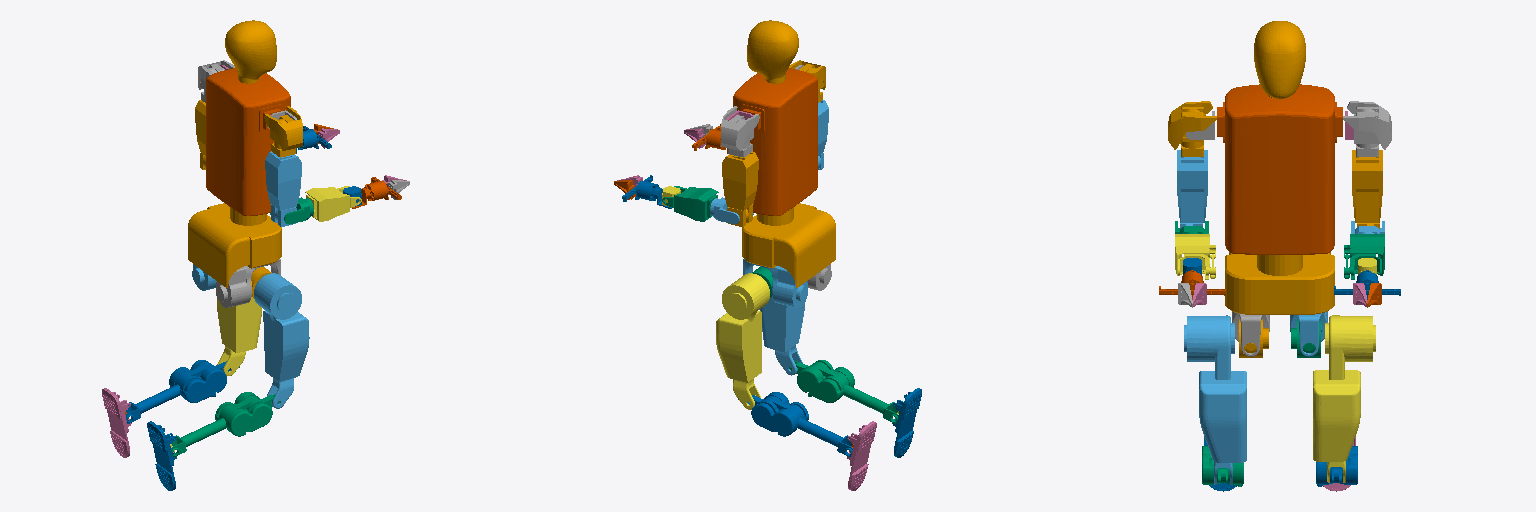
--- What the picture shows (computed from the rendered views, not written in the file) ---
Views: 3 orthographic renders of the robot side by side, from view 1: azimuth 30°, elevation 25°; view 2: azimuth 150°, elevation 25°; view 3: azimuth 270°, elevation 25°.
Robot: HuV3 — 33 links, 32 joints (28 revolute, 4 fixed); root link pelvis_link; default pose: all joints at 0 but 2 set to mid-range because 0 is outside their limits (left_knee_joint = 1.36, right_knee_joint = 1.36).
Links seen in each view (by area): view 1: torso_link, pelvis_link, right_hip_pitch_link, zneck_link, right_knee_link, left_knee_link, left_hip_pitch_link, right_shoulder_yaw_link, right_shoulder_roll_link, right_elbow_roll_link, right_hip_yaw_link, right_toe_link (+3 smaller); view 2: torso_link, pelvis_link, left_hip_pitch_link, zneck_link, right_knee_link, left_knee_link, right_hip_pitch_link, left_shoulder_yaw_link, left_shoulder_roll_link, left_elbow_roll_link, left_hip_yaw_link, left_toe_link (+3 smaller); view 3: torso_link, right_hip_pitch_link, left_hip_pitch_link, pelvis_link, zneck_link, left_shoulder_yaw_link, right_shoulder_yaw_link, left_shoulder_roll_link, right_shoulder_roll_link, left_elbow_roll_link, right_elbow_roll_link, left_hip_yaw_link (+3 smaller).
Link boxes in pixels (<box>): torso_link: <box>206,68,290,215</box>; pelvis_link: <box>188,203,281,287</box>; right_hip_pitch_link: <box>254,273,309,408</box>; zneck_link: <box>225,20,276,83</box>; right_knee_link: <box>171,392,279,456</box>; left_knee_link: <box>126,360,239,423</box>; left_hip_pitch_link: <box>217,297,261,375</box>; right_shoulder_yaw_link: <box>265,151,301,226</box>; right_shoulder_roll_link: <box>264,106,302,157</box>; right_elbow_roll_link: <box>305,186,361,221</box>; right_hip_yaw_link: <box>216,259,280,307</box>; right_toe_link: <box>147,421,176,490</box>; torso_link: <box>733,68,817,215</box>; pelvis_link: <box>742,203,835,287</box>; left_hip_pitch_link: <box>716,273,769,409</box>; zneck_link: <box>747,20,798,83</box>; right_knee_link: <box>789,360,897,423</box>; left_knee_link: <box>738,392,852,456</box>; right_hip_pitch_link: <box>760,297,805,375</box>; left_shoulder_yaw_link: <box>722,151,758,226</box>; left_shoulder_roll_link: <box>721,106,759,157</box>; left_elbow_roll_link: <box>662,186,718,221</box>; left_hip_yaw_link: <box>743,259,807,307</box>; left_toe_link: <box>847,421,876,490</box>; torso_link: <box>1217,84,1342,254</box>; right_hip_pitch_link: <box>1184,315,1246,484</box>; left_hip_pitch_link: <box>1313,315,1375,482</box>; pelvis_link: <box>1225,252,1334,314</box>; zneck_link: <box>1254,21,1305,98</box>; left_shoulder_yaw_link: <box>1352,150,1382,228</box>; right_shoulder_yaw_link: <box>1177,150,1207,228</box>; left_shoulder_roll_link: <box>1343,101,1391,156</box>; right_shoulder_roll_link: <box>1168,101,1216,156</box>; left_elbow_roll_link: <box>1344,234,1384,279</box>; right_elbow_roll_link: <box>1175,234,1215,279</box>; left_hip_yaw_link: <box>1290,311,1327,356</box>.
Size in the robot's own frame: 0.9059 by 0.624 by 1.5 metres.
33 mesh visuals loaded from 33 distinct referenced files (33 binary STL).

URDF robot description (HuV3):
<?xml version='1.0' encoding='utf-8'?>
<robot name="HuV3">

  <mujoco>
    <compiler meshdir="./meshes_v3" balanceinertia="true" discardvisual="false" />
  </mujoco>

  <link name="pelvis_link">
    <inertial>
      <origin xyz="-0.00868894 -0.00002114 0.01378970"  />
      <mass value=" 7.29443409 " />
      <inertia ixx="0.05533594" ixy="0.00002823" ixz=" 0.00170466" iyy="0.03121722" iyz="0.00001421" izz="0.05478048" />
    </inertial>
    <visual>
      <geometry>
        <mesh filename="./meshes_v3/pelvis_Link.STL" />
      </geometry>
    </visual>
  </link>

  <link name="left_hip_yaw_link">
    <inertial>
      <origin xyz="-0.09435015 -0.00003825 -0.09656017"  />
      <mass value="3.47979196" />
      <inertia ixx="0.00666313" ixy="-0.00000499" ixz="0.00265483" iyy="0.01032090" iyz="-0.00000693" izz="0.00783446" />
    </inertial>
    <visual>
      <geometry>
        <mesh filename="./meshes_v3/left_hip_yaw_Link.STL" />
      </geometry>
    </visual>
  </link>

  <joint name="left_hip_yaw_joint" type="revolute">
    <origin xyz="0.0025 0.075 -0.042"  />
    <parent link="pelvis_link" />
    <child link="left_hip_yaw_link" />
    <axis xyz="0 0 1" />
    <limit lower="-0.1745" upper="0.1745" effort="112" velocity="10.8888" />
  </joint>

  <link name="left_hip_roll_link">
    <inertial>
      <origin xyz="-0.00419258 -0.00207243  -0.00000355"  />
      <mass value="1.67347514" />
      <inertia ixx=" 0.00148884" ixy="-0.00001284" ixz="0.00001132" iyy="0.00266559" iyz="-0.00000380" izz="0.00216011" />
    </inertial>
    <visual>
      <geometry>
        <mesh filename="./meshes_v3/left_hip_roll_Link.STL" />
      </geometry>
    </visual>
  </link>

  <joint name="left_hip_roll_joint" type="revolute">
    <origin xyz="0 0 -0.108"  />
    <parent link="left_hip_yaw_link" />
    <child link="left_hip_roll_link" />
    <axis xyz="1 0 0" />
    <limit lower="-0.3491" upper="0.3491" effort="112" velocity="10.8888" />
  </joint>

  <link name="left_hip_pitch_link">
    <inertial>
      <origin xyz="0.01053001 0.02719550 -0.06866401"  />
      <mass value=" 4.69963741 " />
      <inertia ixx="0.07076416" ixy=" -0.00154720" ixz="-0.00612154" iyy="0.06807119" iyz="0.01083637" izz="0.01243698" />
    </inertial>
    <visual>
      <geometry>
        <mesh filename="./meshes_v3/left_hip_pitch_Link.STL" />
      </geometry>
    </visual>
    <collision>
      <origin xyz="0.03 0 -0.15"/>
      <geometry>
        <cylinder length="0.3" radius="0.06" />
      </geometry>
    </collision>
  </link>

  <joint name="left_hip_pitch_joint" type="revolute">
    <origin xyz="0 0.071 0"  />
    <parent link="left_hip_roll_link" />
    <child link="left_hip_pitch_link" />
    <axis xyz="0 1 0" />
    <limit lower="-1.5708" upper="0.8727" effort="112" velocity="10.8888" />
  </joint>

  <link name="left_knee_link">
    <inertial>
      <origin xyz="-0.00772372  0.00018336  -0.14216164"  />
      <mass value=" 2.61168425 " />
      <inertia ixx="0.02516610" ixy="-0.00008922" ixz="0.00185163" iyy="0.02584313" iyz=" 0.00012281" izz=" 0.00327977" />
    </inertial>
    <visual>
      <geometry>
        <mesh filename="./meshes_v3/left_knee_Link.STL" />
      </geometry>
    </visual>
    <collision>
      <origin xyz="0 0 -0.26"/>
      <geometry>
        <cylinder length="0.16" radius="0.02" />
      </geometry>
    </collision>
    <collision>
      <origin xyz="0 0 -0.075" rpy="1.5707 0 0"/>
      <geometry>
        <cylinder length="0.06" radius="0.04" />
      </geometry>
    </collision>
    <collision>
      <origin xyz="0 0 -0.145" rpy="1.5707 0 0"/>
      <geometry>
        <cylinder length="0.06" radius="0.04" />
      </geometry>
    </collision>
  </link>

  <joint name="left_knee_joint" type="revolute">
    <origin xyz="0 0 -0.385"  />
    <parent link="left_hip_pitch_link" />
    <child link="left_knee_link" />
    <axis xyz="0 1 0" />
    <limit lower="0.0997" upper="2.618" effort="199" velocity="11.936" />
  </joint>

  <link name="left_ankle_link">
    <inertial>
      <origin xyz="5.06018837942435E-15 -8.73467964623842E-14 -1.25455201782643E-14"  />
      <mass value="0.104989784083629" />
      <inertia ixx="9.97254377643046E-06" ixy="1.20268606991078E-22" ixz="-7.78258676389203E-22" iyy="9.97254377643045E-06" iyz="1.10914482993633E-20" izz="1.66917533703322E-05" />
    </inertial>
    <visual>
      <geometry>
        <mesh filename="./meshes_v3/left_ankle_Link.STL" />
      </geometry>
    </visual>
  </link>

  <joint name="left_ankle_joint" type="revolute">
    <origin xyz="0 0 -0.385"  />
    <parent link="left_knee_link" />
    <child link="left_ankle_link" />
    <axis xyz="0 1 0" />
    <limit lower="-0.6981" upper="0.6981" effort="35.7" velocity="21.5682" />
  </joint>

  <link name="left_toe_link">
    <inertial>
      <origin xyz="0.00385802 0 -0.02782845"  />
      <mass value="0.59831962" />
      <inertia ixx="0.00055604" ixy="0" ixz="-0.00008043" iyy="0.00259974" iyz="0" izz="0.00295037" />
    </inertial>
    <visual>
      <geometry>
        <mesh filename="./meshes_v3/left_toe_Link.STL" />
      </geometry>
    </visual>
    <collision>
      <origin xyz="0.02 0 -0.025"/>
      <geometry>
        <box size="0.24 0.08 0.03" />
      </geometry>
    </collision>
  </link>

  <joint name="left_toe_joint" type="revolute">
    <parent link="left_ankle_link" />
    <child link="left_toe_link" />
    <axis xyz="1 0 0" />
    <limit lower="-0.3665" upper="0.3665" effort="35.7" velocity="21.5682" />
  </joint>

  <link name="right_hip_yaw_link">
    <inertial>
      <origin xyz="-0.09435015  -0.00003825 -0.09656017"  />
      <mass value="3.47979196" />
      <inertia ixx=" 0.00666313" ixy="-0.00000499" ixz="0.00265483" iyy="0.01032090" iyz="-0.00000693" izz="0.00783446" />
    </inertial>
    <visual>
      <geometry>
        <mesh filename="./meshes_v3/right_hip_yaw_Link.STL" />
      </geometry>
    </visual>
  </link>

  <joint name="right_hip_yaw_joint" type="revolute">
    <origin xyz="0.0025 -0.075 -0.042"  />
    <parent link="pelvis_link" />
    <child link="right_hip_yaw_link" />
    <axis xyz="0 0 1" />
    <limit lower="-0.1745" upper="0.1745" effort="112" velocity="10.8888" />
  </joint>

  <link name="right_hip_roll_link">
    <inertial>
      <origin xyz="-0.00419282 0.00207251 -0.00000363"  />
      <mass value="1.67347184" />
      <inertia ixx="0.00148883" ixy="0.00001284" ixz="0.00001132" iyy="0.00266558" iyz="0.00000379" izz="0.00216010" />
    </inertial>
    <visual>
      <geometry>
        <mesh filename="./meshes_v3/right_hip_roll_Link.STL" />
      </geometry>
    </visual>
  </link>

  <joint name="right_hip_roll_joint" type="revolute">
    <origin xyz="0 0 -0.108"  />
    <parent link="right_hip_yaw_link" />
    <child link="right_hip_roll_link" />
    <axis xyz="1 0 0" />
    <limit lower="-0.3491" upper="0.3491" effort="112" velocity="10.8888" />
  </joint>

  <link name="right_hip_pitch_link">
    <inertial>
      <origin xyz="0.01043511 -0.02718765 -0.06874164"  />
      <mass value=" 4.70150752" />
      <inertia ixx="0.07089445" ixy="0.00157318" ixz="-0.00615610" iyy="0.06821221" iyz=" -0.01088436" izz="0.01244999" />
    </inertial>
    <visual>
      <geometry>
        <mesh filename="./meshes_v3/right_hip_pitch_Link.STL" />
      </geometry>
    </visual>
    <collision>
      <origin xyz="0.03 0 -0.15"/>
      <geometry>
        <cylinder length="0.3" radius="0.06" />
      </geometry>
    </collision>
  </link>

  <joint name="right_hip_pitch_joint" type="revolute">
    <origin xyz="0 -0.071 0"  />
    <parent link="right_hip_roll_link" />
    <child link="right_hip_pitch_link" />
    <axis xyz="0 1 0" />
    <limit lower="-1.5708" upper="0.8727" effort="112" velocity="10.8888" />
  </joint>

  <link name="right_knee_link">
    <inertial>
      <origin xyz="-0.00772292  -0.00015217 -0.14211314"  />
      <mass value="2.61208767" />
      <inertia ixx="0.02517568" ixy="0.00008984" ixz="0.00185256" iyy="0.02585217" iyz=" -0.00011905" izz="0.00328034" />
    </inertial>
    <visual>
      <geometry>
        <mesh filename="./meshes_v3/right_knee_Link.STL" />
      </geometry>
    </visual>
    <collision>
      <origin xyz="0 0 -0.26"/>
      <geometry>
        <cylinder length="0.16" radius="0.02" />
      </geometry>
    </collision>
    <collision>
      <origin xyz="0 0 -0.075" rpy="1.5707 0 0"/>
      <geometry>
        <cylinder length="0.06" radius="0.04" />
      </geometry>
    </collision>
    <collision>
      <origin xyz="0 0 -0.145" rpy="1.5707 0 0"/>
      <geometry>
        <cylinder length="0.06" radius="0.04" />
      </geometry>
    </collision>
  </link>

  <joint name="right_knee_joint" type="revolute">
    <origin xyz="0 0 -0.385"  />
    <parent link="right_hip_pitch_link" />
    <child link="right_knee_link" />
    <axis xyz="0 1 0" />
    <limit lower="0.0997" upper="2.618" effort="199" velocity="11.936" />
  </joint>

 <link name="right_ankle_link">
    <inertial>
      <origin xyz="-1.0408E-17 -2.7756E-17 2.2204E-16"  />
      <mass value="0.10499" />
      <inertia ixx="9.9725E-06" ixy="-2.0679E-22" ixz="-3.0474E-22" iyy="9.9725E-06" iyz="1.3864E-21" izz="1.6692E-05" />
    </inertial>
    <visual>
      <geometry>
        <mesh filename="./meshes_v3/right_ankle_Link.STL" />
      </geometry>
    </visual>
  </link>

  <joint name="right_ankle_joint" type="revolute">
    <origin xyz="0 0 -0.385"  />
    <parent link="right_knee_link" />
    <child link="right_ankle_link" />
    <axis xyz="0 1 0" />
    <limit lower="-0.6981" upper="0.6981" effort="35.7" velocity="21.5682" />
  </joint>

  <link name="right_toe_link">
    <inertial>
      <origin xyz="0.00385802  0 -0.02782845"  />
      <mass value="0.59831962" />
      <inertia ixx="0.00055604" ixy="0" ixz=" -0.00008043" iyy=" 0.00259974" iyz="0" izz="0.00295037" />
    </inertial>
    <visual>
      <geometry>
        <mesh filename="./meshes_v3/right_toe_Link.STL" />
      </geometry>
    </visual>
    <collision>
      <origin xyz="0.02 0 -0.025"/>
      <geometry>
        <box size="0.24 0.08 0.03" />
      </geometry>
    </collision>
  </link>

  <joint name="right_toe_joint" type="revolute">
    <parent link="right_ankle_link" />
    <child link="right_toe_link" />
    <axis xyz="1 0 0" />
    <limit lower="-0.3665" upper="0.3665" effort="35.7" velocity="21.5682" />
  </joint>

  <link name="torso_link">
    <inertial>
      <origin xyz="-0.00085192 0.00030710 0.21115103"  />
      <mass value=" 17.03890935" />
      <inertia ixx="0.35902103" ixy=" -0.00037498" ixz=" 0.00043173" iyy="0.26798419" iyz="0.00004687" izz="0.17911141" />
    </inertial>
    <visual>
      <geometry>
        <mesh filename="./meshes_v3/torso_Link.STL" />
      </geometry>
    </visual>
    <collision>
      <origin xyz="0 0 0.2"/>
      <geometry>
        <cylinder length="0.5" radius="0.1" />
      </geometry>
    </collision>
  </link>

  <joint name="torso_joint" type="revolute">
    <origin xyz="0 0 0.1065"  />
    <parent link="pelvis_link" />
    <child link="torso_link" />
    <axis xyz="0 0 1" />
    <limit lower="-1.0472" upper="1.0472" effort="144" velocity="8.2713" />
  </joint>



 <link name="left_shoulder_pitch_link">
    <inertial>
      <origin xyz="0.020312 0.028207 -0.0001728"  />
      <mass value="0.13189" />
      <inertia ixx="0.00012" ixy="0.00004" ixz="0" iyy="0.00009" iyz="0" izz="0.00014" />
    </inertial>
    <visual>
      <geometry>
        <mesh filename="./meshes_v3/left_shoulder_pitch_Link.STL" />
      </geometry>
    </visual>
  </link>

  <joint name="left_shoulder_pitch_joint" type="revolute">
    <origin xyz="0 0.162 0.3565"  />
    <parent link="torso_link" />
    <child link="left_shoulder_pitch_link" />
    <axis xyz="0 1 0" />
    <limit lower="-3.1416" upper="1.0472" effort="15" velocity="12.566" />
  </joint>

  <link name="left_shoulder_roll_link">
    <inertial>
      <origin xyz="-0.024734 0.0027456 -0.027134"  />
      <mass value="0.97176" />
      <inertia ixx="0.00153" ixy="0.00002" ixz="0.00007" iyy="0.00153" iyz="0.00002" izz="0.00074" />
    </inertial>
    <visual>
      <geometry>
        <mesh filename="./meshes_v3/left_shoulder_roll_Link.STL" />
      </geometry>
    </visual>
  </link>

  <joint name="left_shoulder_roll_joint" type="revolute">
    <origin xyz="0.02725 0.063 0"  />
    <parent link="left_shoulder_pitch_link" />
    <child link="left_shoulder_roll_link" />
    <axis xyz="1 0 0" />
    <limit lower="0" upper="1.5708" effort="15" velocity="12.566" />
  </joint>

  <link name="left_shoulder_yaw_link">
    <inertial>
      <origin xyz="-0.000221571129409015 -0.000554010477288369 -0.156388906739316"  />
      <mass value="0.8682" />
      <inertia ixx="0.00529" ixy="0.00001" ixz="0.00005" iyy="0.00533" iyz="0.00003" izz="0.00078" />
    </inertial>
    <visual>
      <geometry>
        <mesh filename="./meshes_v3/left_shoulder_yaw_Link.STL" />
      </geometry>
    </visual>
    <collision>
      <origin xyz="0 0 -0.04"/>
      <geometry>
        <cylinder length="0.22" radius="0.04" />
      </geometry>
    </collision>
  </link>

  <joint name="left_shoulder_yaw_joint" type="revolute">
    <origin xyz="-0.02725 0 -0.0865"  />
    <parent link="left_shoulder_roll_link" />
    <child link="left_shoulder_yaw_link" />
    <axis xyz="0 0 1" />
    <limit lower="-1.5708" upper="1.5708" effort="15" velocity="12.566" />
  </joint>

  <link name="left_elbow_pitch_link">
    <inertial>
      <origin xyz="0.060993 0.025362 -3.2063E-05"  />
      <mass value="0.48375" />
      <inertia ixx="0.00037" ixy="0.00001" ixz="0" iyy="0.00043" iyz="0" izz="0.00058" />
    </inertial>
    <visual>
      <geometry>
        <mesh filename="./meshes_v3/left_elbow_pitch_Link.STL" />
      </geometry>
    </visual>
  </link>

  <joint name="left_elbow_pitch_joint" type="revolute">
    <origin xyz="0 -0.02725 -0.2165"  />
    <parent link="left_shoulder_yaw_link" />
    <child link="left_elbow_pitch_link" />
    <axis xyz="0 1 0" />
    <limit lower="0" upper="1.5708" effort="15" velocity="12.566" />
  </joint>

  <link name="left_elbow_roll_link">
    <inertial>
      <origin xyz="0.054108 -0.0079688 1.5405E-05"  />
      <mass value="0.57648" />
      <inertia ixx="0.00056" ixy="0.00004" ixz="0" iyy="0.00098" iyz="0" izz="0.00111" />
    </inertial>
    <visual>
      <geometry>
        <mesh filename="./meshes_v3/left_elbow_roll_Link.STL" />
      </geometry>
    </visual>
    <collision>
      <origin xyz="0.06 0 0" rpy="0 1.5707 0"/>
      <geometry>
        <cylinder length="0.22" radius="0.04" />
      </geometry>
    </collision>
  </link>

  <joint name="left_elbow_roll_joint" type="revolute">
    <origin xyz="0.0935 0.02725 0"  />
    <parent link="left_elbow_pitch_link" />
    <child link="left_elbow_roll_link" />
    <axis xyz="1 0 0" />
    <limit lower="-1.5708" upper="1.5708" effort="3" velocity="12.566" />
  </joint>

  <link name="left_wrist_pitch_link">
    <inertial>
      <origin xyz="-4.6345E-05 0.03982 -0.0011411"  />
      <mass value="0.33468" />
      <inertia ixx="0.00013" ixy="0" ixz="0" iyy="0.00012" iyz="0" izz="0.00015" />
    </inertial>
    <visual>
      <geometry>
        <mesh filename="./meshes_v3/left_wrist_pitch_Link.STL" />
      </geometry>
    </visual>
  </link>

  <joint name="left_wrist_pitch_joint" type="revolute">
    <origin xyz="0.1615 -0.04025 0"  />
    <parent link="left_elbow_roll_link" />
    <child link="left_wrist_pitch_link" />
    <axis xyz="0 1 0" />
    <limit lower="-0.785" upper="0.785" effort="3" velocity="12.566" />
  </joint>

  <link name="left_wrist_yaw_link">
    <inertial>
      <origin xyz="0.0805 2.2632E-05 0.019959"  />
      <mass value="0.47469" />
      <inertia ixx="0.00041" ixy="0" ixz="0.00007" iyy="0.00048" iyz="0" izz="0.00068" />
    </inertial>
    <visual>
      <geometry>
        <mesh filename="./meshes_v3/left_wrist_yaw_Link.STL" />
      </geometry>
    </visual>
  </link>

  <joint name="left_wrist_yaw_joint" type="revolute">
    <origin xyz="0 0.04025 -0.022"  />
    <parent link="left_wrist_pitch_link" />
    <child link="left_wrist_yaw_link" />
    <axis xyz="0 0 1" />
    <limit lower="-0.7854" upper="0.7854" effort="3" velocity="12.566" />
  </joint>

  <link name="left_gripper_left_link">
    <inertial>
      <origin xyz="-0.000223363203871285 -0.00785574212320123 -0.00293325010181111"  />
      <mass value="0.064465" />
      <inertia ixx="0.00002" ixy="0" ixz="0" iyy="0.00003" iyz="0" izz="0.00003" />
    </inertial>
    <visual>
      <geometry>
        <mesh filename="./meshes_v3/left_gripper_left_Link.STL" />
      </geometry>
    </visual>
  </link>

  <joint name="left_gripper_left_joint" type="fixed">
    <origin xyz="0.13137 0.024896 0.021756"  />
    <parent link="left_wrist_yaw_link" />
    <child link="left_gripper_left_link" />
    <axis xyz="0 1 0" />
    <limit lower="0" upper="0.044" effort="3" velocity="12.566" />
  </joint>

  <link name="left_gripper_right_link">
    <inertial>
      <origin xyz="-0.000223364079467547 0.00785639712766717 0.00238447702945521"  />
      <mass value="0.064465" />
      <inertia ixx="0.00002" ixy="0" ixz="0" iyy="0.00003" iyz="0" izz="0.00003" />
    </inertial>
    <visual>
      <geometry>
        <mesh filename="./meshes_v3/left_gripper_right_Link.STL" />
      </geometry>
    </visual>
  </link>

  <joint name="left_gripper_right_joint" type="fixed">
    <origin xyz="0.13137 -0.0249 0.021756"  />
    <parent link="left_wrist_yaw_link" />
    <child link="left_gripper_right_link" />
    <axis xyz="0 1 0" />
    <limit lower="-0.044" upper="0" effort="3" velocity="12.566" />
  </joint>



  <link name="right_shoulder_pitch_link">
    <inertial>
      <origin xyz="0.020312 -0.028207 0.0001728"  />
      <mass value="0.13189" />
      <inertia ixx="0.00012" ixy="-0.00004" ixz="0" iyy="0.00009" iyz="0" izz="0.00014" />
    </inertial>
    <visual>
      <geometry>
        <mesh filename="./meshes_v3/right_shoulder_pitch_Link.STL" />
      </geometry>
    </visual>
  </link>

  <joint name="right_shoulder_pitch_joint" type="revolute">
    <origin xyz="0 -0.162 0.3565"  />
    <parent link="torso_link" />
    <child link="right_shoulder_pitch_link" />
    <axis xyz="0 1 0" />
    <limit lower="-3.1416" upper="1.0472" effort="15" velocity="12.566" />
  </joint>

  <link name="right_shoulder_roll_link">
    <inertial>
      <origin xyz="-0.024734 -0.0027456 -0.027134"  />
      <mass value="0.97176" />
      <inertia ixx="0.00153" ixy="-0.00002" ixz="0.00007" iyy="0.00153" iyz="-0.00002" izz="0.00074" />
    </inertial>
    <visual>
      <geometry>
        <mesh filename="./meshes_v3/right_shoulder_roll_Link.STL" />
      </geometry>
    </visual>
  </link>

  <joint name="right_shoulder_roll_joint" type="revolute">
    <origin xyz="0.02725 -0.063 0"  />
    <parent link="right_shoulder_pitch_link" />
    <child link="right_shoulder_roll_link" />
    <axis xyz="1 0 0" />
    <limit lower="-1.5708" upper="0" effort="15" velocity="12.566" />
  </joint>

  <link name="right_shoulder_yaw_link">
    <inertial>
      <origin xyz="-0.00022156 0.00055401 -0.15639"  />
      <mass value="0.8682" />
      <inertia ixx="0.00529" ixy="-0.00001" ixz="0.00005" iyy="0.00533" iyz="-0.00003" izz="0.00078" />
    </inertial>
    <visual>
      <geometry>
        <mesh filename="./meshes_v3/right_shoulder_yaw_Link.STL" />
      </geometry>
    </visual>
    <collision>
      <origin xyz="0 0 -0.04"/>
      <geometry>
        <cylinder length="0.22" radius="0.04" />
      </geometry>
    </collision>
  </link>

  <joint name="right_shoulder_yaw_joint" type="revolute">
    <origin xyz="-0.02725 0 -0.0865"  />
    <parent link="right_shoulder_roll_link" />
    <child link="right_shoulder_yaw_link" />
    <axis xyz="0 0 1" />
    <limit lower="-1.5708" upper="1.5708" effort="15" velocity="12.566" />
  </joint>

  <link name="right_elbow_pitch_link">
    <inertial>
      <origin xyz="0.060993 -0.025362 3.2063E-05"  />
      <mass value="0.48375" />
      <inertia ixx="0.00037" ixy="-0.00001" ixz="0" iyy="0.00043" iyz="0" izz="0.00058" />
    </inertial>
    <visual>
      <geometry>
        <mesh filename="./meshes_v3/right_elbow_pitch_Link.STL" />
      </geometry>
    </visual>
  </link>

  <joint name="right_elbow_pitch_joint" type="revolute">
    <origin xyz="0 0.02725 -0.2165"  />
    <parent link="right_shoulder_yaw_link" />
    <child link="right_elbow_pitch_link" />
    <axis xyz="0 1 0" />
    <limit lower="0" upper="1.5708" effort="15" velocity="12.566" />
  </joint>

  <link name="right_elbow_roll_link">
    <inertial>
      <origin xyz="0.054108 0.0079688 -1.5405E-05"  />
      <mass value="0.57648" />
      <inertia ixx="0.00056" ixy="-0.00004" ixz="0" iyy="0.00098" iyz="0" izz="0.00111" />
    </inertial>
    <visual>
      <geometry>
        <mesh filename="./meshes_v3/right_elbow_roll_Link.STL" />
      </geometry>
    </visual>
    <collision>
      <origin xyz="0.06 0 0" rpy="0 1.5707 0"/>
      <geometry>
        <cylinder length="0.22" radius="0.04" />
      </geometry>
    </collision>
  </link>

  <joint name="right_elbow_roll_joint" type="revolute">
    <origin xyz="0.0935 -0.02725 0"  />
    <parent link="right_elbow_pitch_link" />
    <child link="right_elbow_roll_link" />
    <axis xyz="1 0 0" />
    <limit lower="-1.5708" upper="1.5708" effort="3" velocity="12.566" />
  </joint>

  <link name="right_wrist_pitch_link">
    <inertial>
      <origin xyz="4.6345E-05 -0.03982 -0.0011411"  />
      <mass value="0.33468" />
      <inertia ixx="0.00013" ixy="0" ixz="0" iyy="0.00012" iyz="0" izz="0.00015" />
    </inertial>
    <visual>
      <geometry>
        <mesh filename="./meshes_v3/right_wrist_pitch_Link.STL" />
      </geometry>
    </visual>
  </link>

  <joint name="right_wrist_pitch_joint" type="revolute">
    <origin xyz="0.1615 0.04025 0"  />
    <parent link="right_elbow_roll_link" />
    <child link="right_wrist_pitch_link" />
    <axis xyz="0 1 0" />
    <limit lower="-0.785" upper="0.785" effort="3" velocity="12.566" />
  </joint>

  <link name="right_wrist_yaw_link">
    <inertial>
      <origin xyz="0.0805 2.2632E-05 0.019959"  />
      <mass value="0.47469" />
      <inertia ixx="0.00041" ixy="0" ixz="0.00007" iyy="0.00048" iyz="0" izz="0.00068" />
    </inertial>
    <visual>
      <geometry>
        <mesh filename="./meshes_v3/right_wrist_yaw_Link.STL" />
      </geometry>
    </visual>
  </link>

  <joint name="right_wrist_yaw_joint" type="revolute">
    <origin xyz="0 -0.04025 -0.022"  />
    <parent link="right_wrist_pitch_link" />
    <child link="right_wrist_yaw_link" />
    <axis xyz="0 0 1" />
    <limit lower="-0.7854" upper="0.7854" effort="3" velocity="12.566" />
  </joint>

  <link name="right_gripper_left_link">
    <inertial>
      <origin xyz="-0.00022336 -0.0078557 -0.0029332"  />
      <mass value="0.064465" />
      <inertia ixx="0.00002" ixy="0" ixz="0" iyy="0.00003" iyz="0" izz="0.00003" />
    </inertial>
    <visual>
      <geometry>
        <mesh filename="./meshes_v3/right_gripper_left_Link.STL" />
      </geometry>
    </visual>
  </link>

  <joint name="right_gripper_left_joint" type="fixed">
    <origin xyz="0.13137 0.024896 0.021756"  />
    <parent link="right_wrist_yaw_link" />
    <child link="right_gripper_left_link" />
    <axis xyz="0 1 0" />
    <limit lower="0" upper="0.044" effort="3" velocity="12.566" />
  </joint>

  <link name="right_gripper_right_link">
    <inertial>
      <origin xyz="-0.00022336 0.0078564 0.0023845"  />
      <mass value="0.064465" />
      <inertia ixx="0.00002" ixy="0" ixz="0" iyy="0.00003" iyz="0" izz="0.00003" />
    </inertial>
    <visual>
      <geometry>
        <mesh filename="./meshes_v3/right_gripper_right_Link.STL" />
      </geometry>
    </visual>
  </link>

  <joint name="right_gripper_right_joint" type="fixed">
    <origin xyz="0.13137 -0.0249 0.021756"  />
    <parent link="right_wrist_yaw_link" />
    <child link="right_gripper_right_link" />
    <axis xyz="0 1 0" />
    <limit lower="-0.044" upper="0" effort="3" velocity="12.566" />
  </joint>
  
  <link name="zneck_link">
    <inertial>
      <origin xyz="0.00908598 0.00022796 0.11558597"  />
      <mass value="0.60086050" />
      <inertia ixx="0.00134439" ixy=" 0.00000610" ixz="-0.00000361" iyy="0.00160683" iyz="0.00000092" izz="0.00111838" />
    </inertial>
    <visual>
      <geometry>
        <mesh filename="./meshes_v3/zneck_Link.STL" />
      </geometry>
    </visual>
  </link>

  <joint name="zneck_joint" type="revolute">
    <origin xyz="0 0 0.4345"  />
    <parent link="torso_link" />
    <child link="zneck_link" />
    <axis xyz="0 0 1" />
    <limit lower="-1.0" upper="1.0" effort="25" velocity="4.1888" />
  </joint>

</robot>
